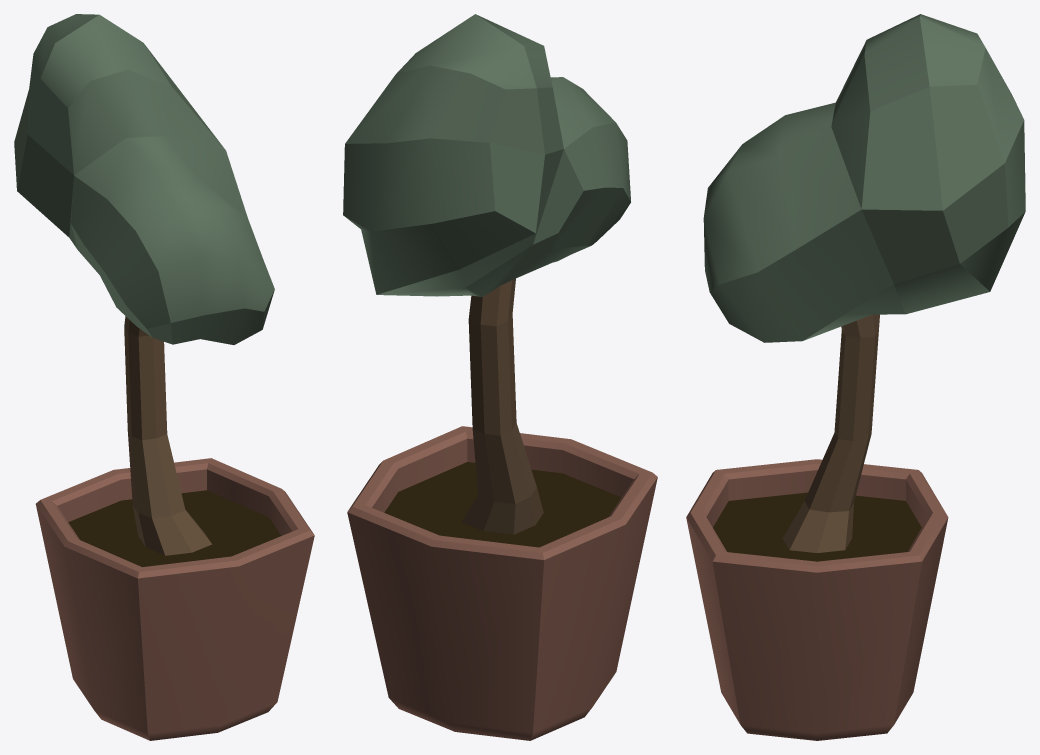
Rendered from PottedTree.fbx.
The picture shows the model from 3 angles, left to right: view 1: azimuth 30°, elevation 25°; view 2: azimuth 150°, elevation 25°; view 3: azimuth 270°, elevation 25°; orthographic projection. The views are drawn at different scales.
Parts seen in each view (by area): view 1: PotPlant; view 2: PotPlant; view 3: PotPlant.
Part boxes in pixels (left/top/right/bottom): PotPlant: left=14, top=14, right=314, bottom=740; PotPlant: left=343, top=14, right=657, bottom=740; PotPlant: left=686, top=14, right=1025, bottom=740.
Size of the model in its own units: 21.56 by 61.09 by 27.92.
